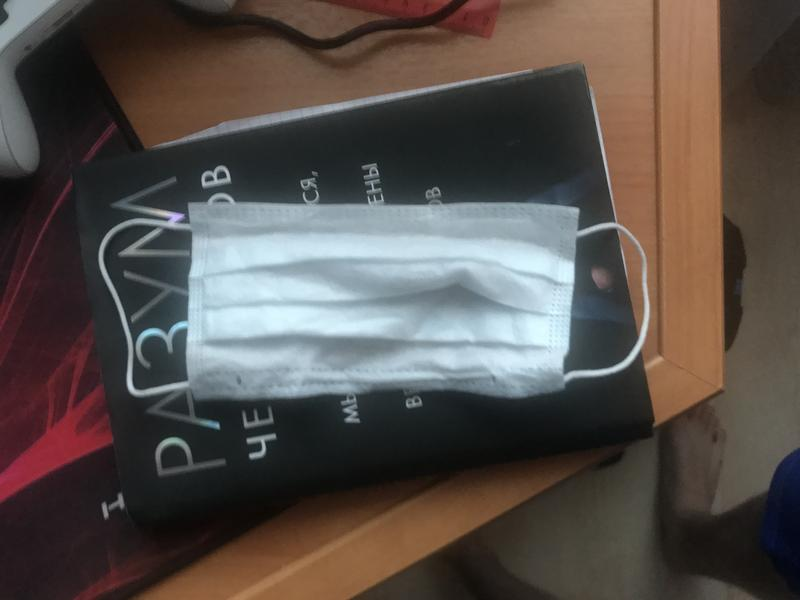medical_mask: (98, 201, 649, 395)
